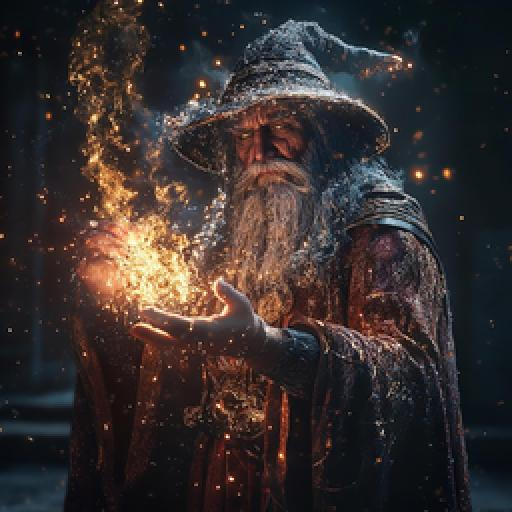wizards: (72, 14, 472, 512)
